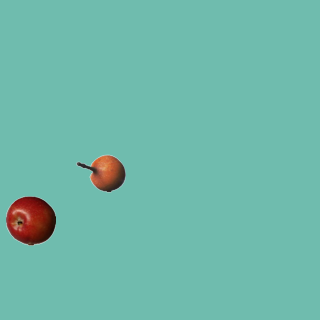Apple Braeburn: (5, 195, 55, 245)
Granadilla: (75, 148, 125, 198)
